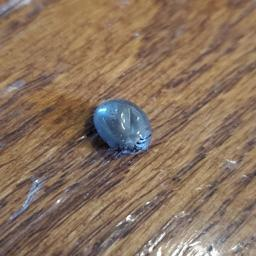Ixodes scapularis: (92, 98, 153, 155)
